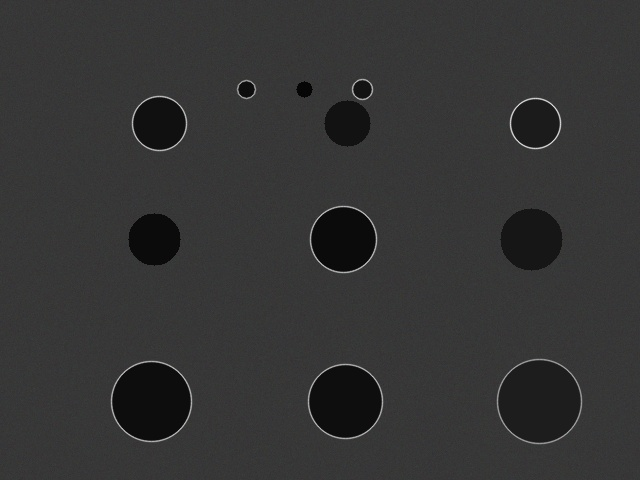hole: (497, 359, 581, 443), (111, 361, 191, 441), (308, 364, 382, 438), (310, 206, 376, 272), (500, 208, 562, 270), (132, 96, 186, 150), (128, 213, 180, 265), (510, 98, 560, 148), (324, 100, 370, 146), (352, 79, 372, 99), (237, 80, 255, 98), (296, 81, 312, 97)
